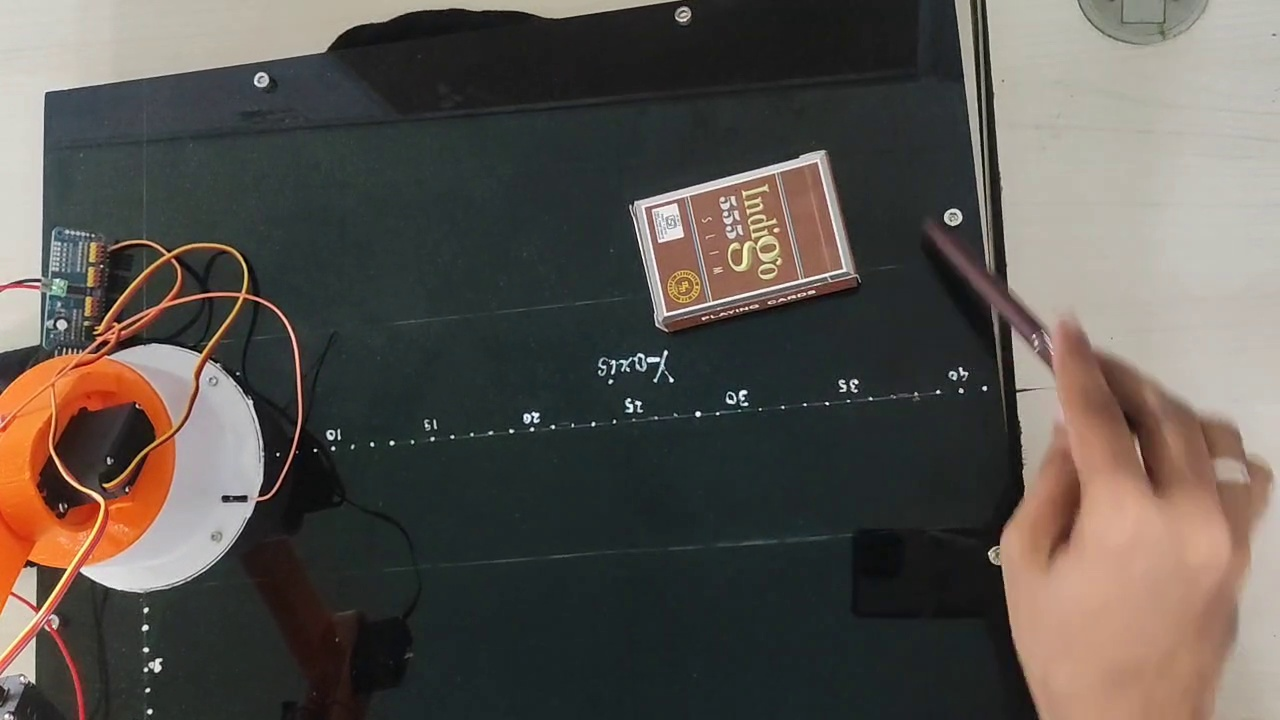BEX: (640, 157, 842, 311)
